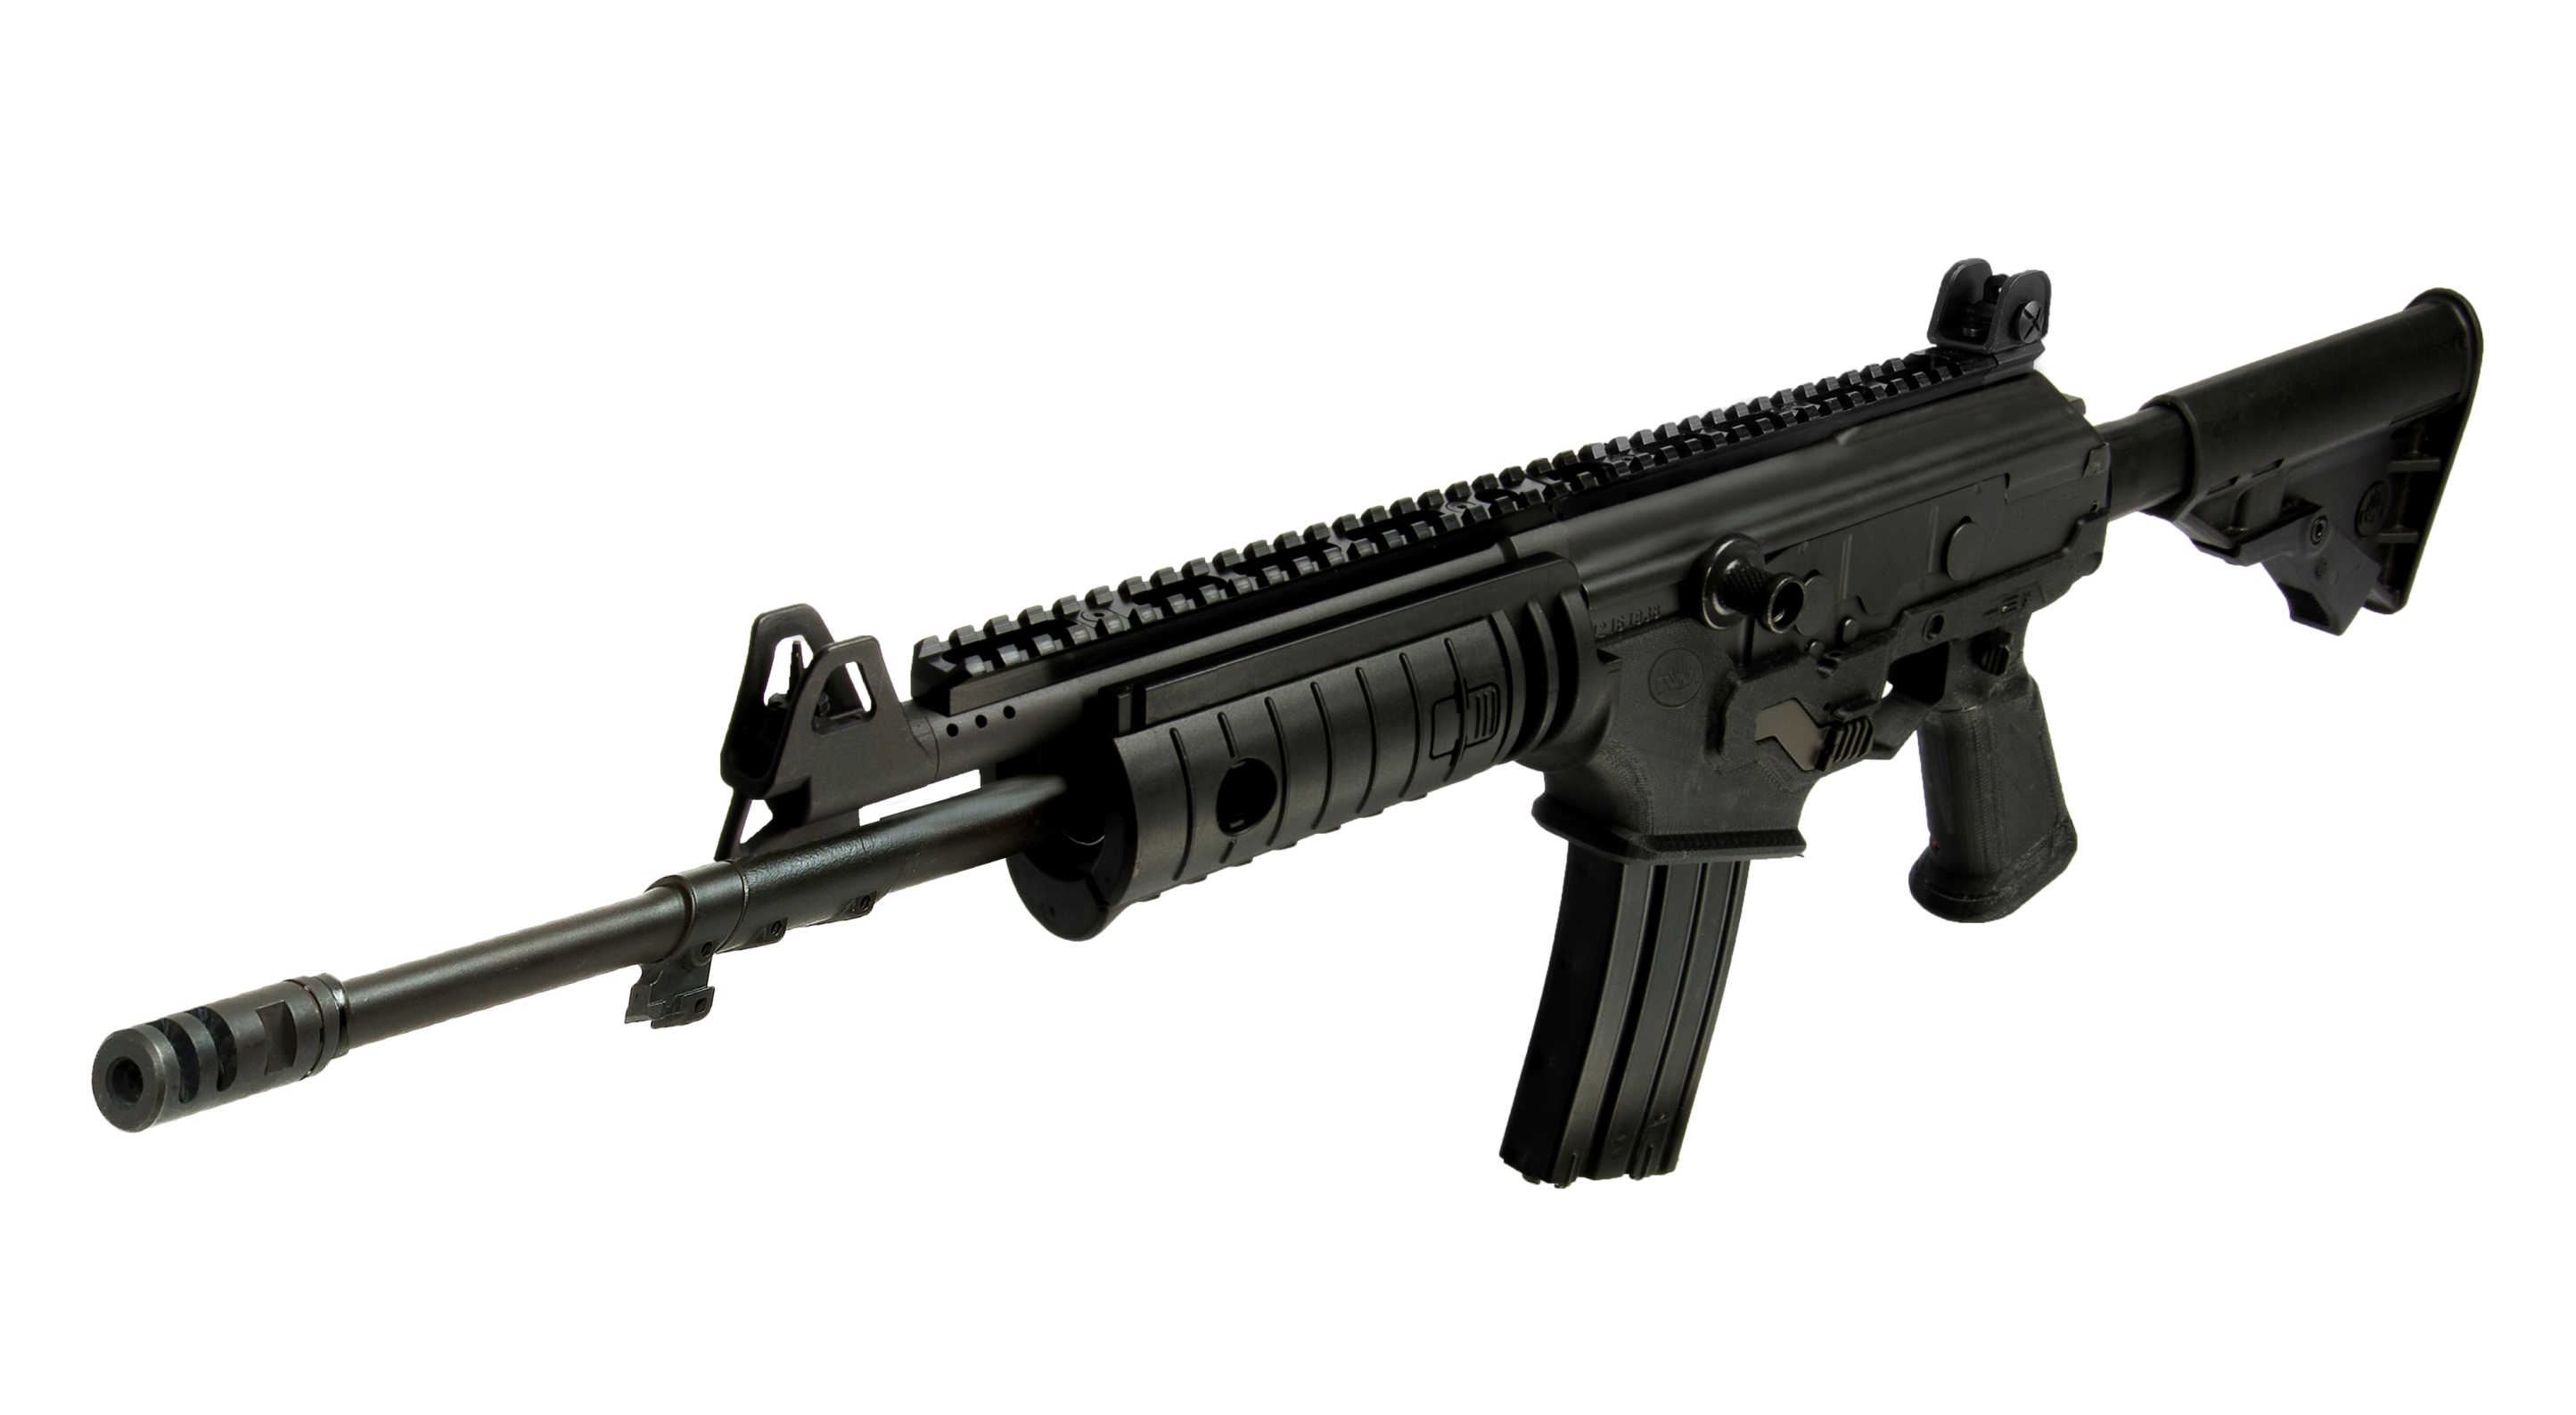Arma Real: (84, 244, 2466, 1187)
